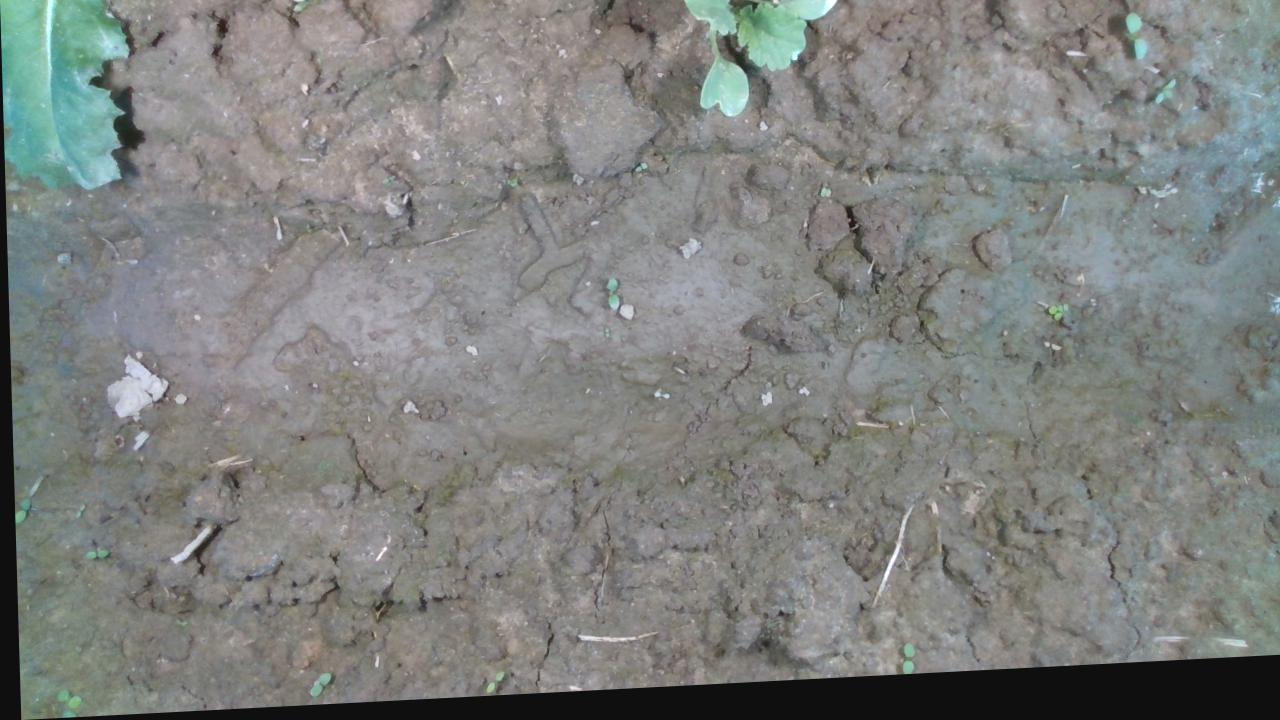weed: (598, 282, 629, 321), (1031, 310, 1079, 335), (1148, 87, 1187, 116)
